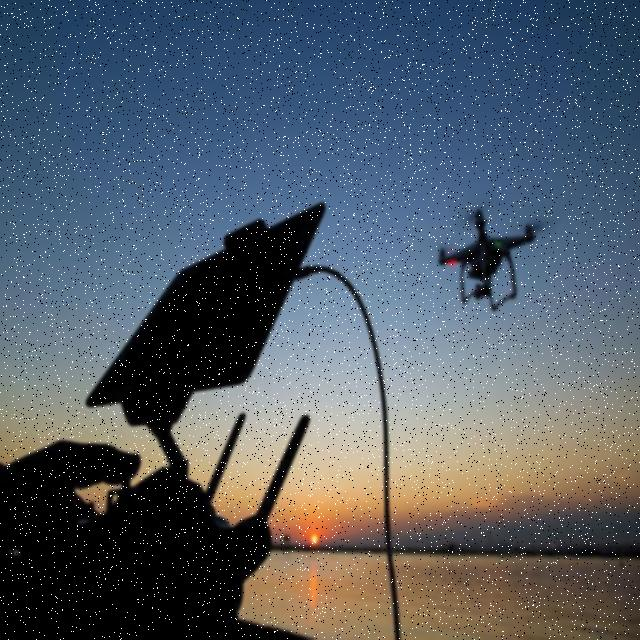UAV: (436, 212, 538, 310)
